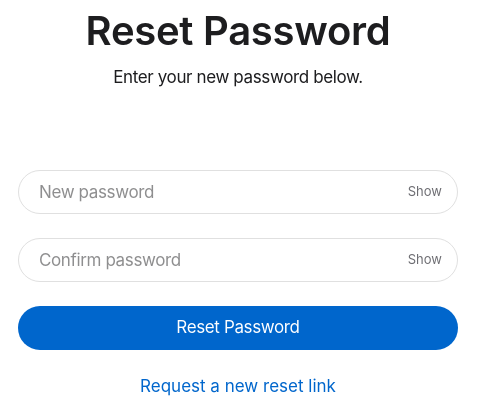
Test case: ResetPasswordPage - API Integration › should show success message after password reset
Type "newpassword123" into the password field with placeholder "New password" at coordinates (238, 192), box [18,170,458,214]
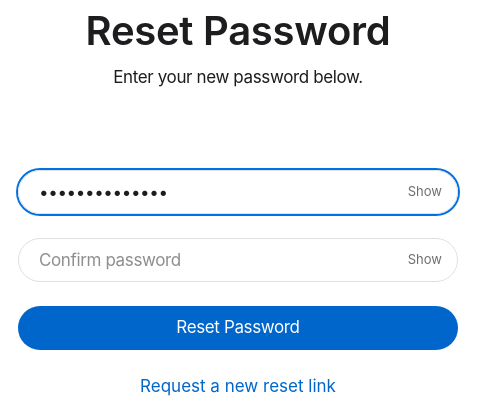
Type "newpassword123" into the password field with placeholder "Confirm password" at coordinates (238, 260), box [18,238,458,282]
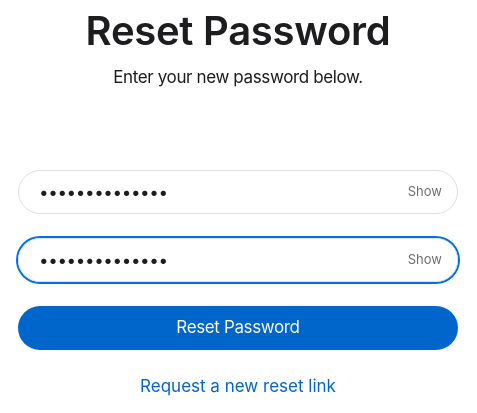
Click the button "Reset Password" at coordinates (238, 328), box [18,306,458,350]
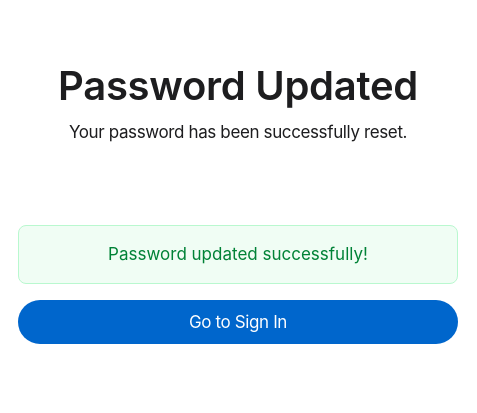
Now the text "Password updated successfully!" is shown, box [18,225,458,284]
